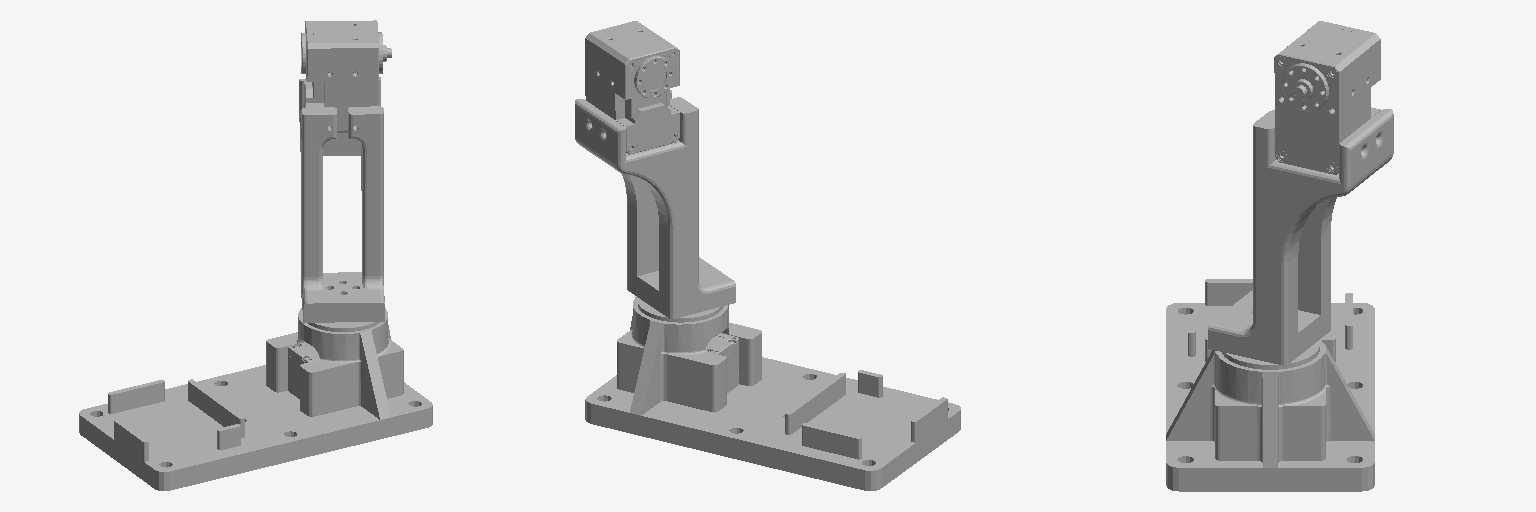
The robot description file, URDF, robot "TOP1":
<?xml version="1.0" encoding="utf-8"?>
<!-- This URDF was automatically created by SolidWorks to URDF Exporter! Originally created by [author] ([email redacted]) 
     Commit Version: 1.6.0-4-g7f85cfe  Build Version: 1.6.7995.38578
     For more information, please see http://wiki.ros.org/sw_urdf_exporter -->
<robot
  name="TOP1">
  <link
    name="base_link">
    <inertial>
      <origin
        xyz="-0.0325575422914482 4.09197177560016E-05 0.0136690458774667"
        rpy="0 0 0" />
      <mass
        value="0.175746988779419" />
      <inertia
        ixx="9.28789154020103E-05"
        ixy="3.4807510449476E-07"
        ixz="-3.19155002642247E-05"
        iyy="0.000319614223019122"
        iyz="-2.72396087840844E-08"
        izz="0.000377396900797511" />
    </inertial>
    <visual>
      <origin
        xyz="0 0 0"
        rpy="0 0 0" />
      <geometry>
        <mesh
          filename="package://kr_robot_description/blah/meshes/base_link.STL" />
      </geometry>
      <material
        name="">
        <color
          rgba="0.752941176470588 0.752941176470588 0.752941176470588 1" />
      </material>
    </visual>
    <collision>
      <origin
        xyz="0 0 0"
        rpy="0 0 0" />
      <geometry>
        <mesh
          filename="package://kr_robot_description/blah/meshes/base_link.STL" />
      </geometry>
    </collision>
  </link>
  <link
    name="Link1">
    <inertial>
      <origin
        xyz="0.0085834 0.015454 0.088315"
        rpy="0 0 0" />
      <mass
        value="0.10187" />
      <inertia
        ixx="8.926E-05"
        ixy="-5.5873E-08"
        ixz="-8.2445E-06"
        iyy="8.9185E-05"
        iyz="-1.5402E-05"
        izz="2.6841E-05" />
    </inertial>
    <visual>
      <origin
        xyz="0 0 0"
        rpy="0 0 0" />
      <geometry>
        <mesh
          filename="package://kr_robot_description/blah/meshes/Link1.STL" />
      </geometry>
      <material
        name="">
        <color
          rgba="0.75294 0.75294 0.75294 1" />
      </material>
    </visual>
    <collision>
      <origin
        xyz="0 0 0"
        rpy="0 0 0" />
      <geometry>
        <mesh
          filename="package://kr_robot_description/blah/meshes/Link1.STL" />
      </geometry>
    </collision>
  </link>
  <joint
    name="joint_1"
    type="continuous">
    <origin
      xyz="0 0 0.036"
      rpy="0 0 0" />
    <parent
      link="base_link" />
    <child
      link="Link1" />
    <axis
      xyz="0.88239 -0.47043 -0.0087265" />
  </joint>
</robot>

--- What the picture shows (computed from the rendered views, not written in the file) ---
3 views of the same robot in one strip: view 1: azimuth 30°, elevation 25°; view 2: azimuth 150°, elevation 25°; view 3: azimuth 270°, elevation 25° (orthographic).
Model TOP1 with 2 links and 1 joints (1 continuous), rooted at base_link, posed all joints at 0.
Links seen in each view (by area): view 1: base_link, Link1; view 2: base_link, Link1; view 3: base_link, Link1.
Boxes of the visible links, x1,y1,x2,y2 form: base_link: [79, 308, 432, 490]; Link1: [299, 20, 391, 322]; base_link: [585, 296, 960, 490]; Link1: [575, 21, 735, 318]; base_link: [1166, 279, 1374, 491]; Link1: [1208, 21, 1393, 365].
Bounding box of the posed robot: 0.1593 × 0.0873 × 0.1827 m (x, y, z).
Meshes: 2 distinct files referenced, 2 mesh visuals loaded (2 binary STL).